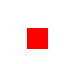square: (27, 28, 47, 48)
